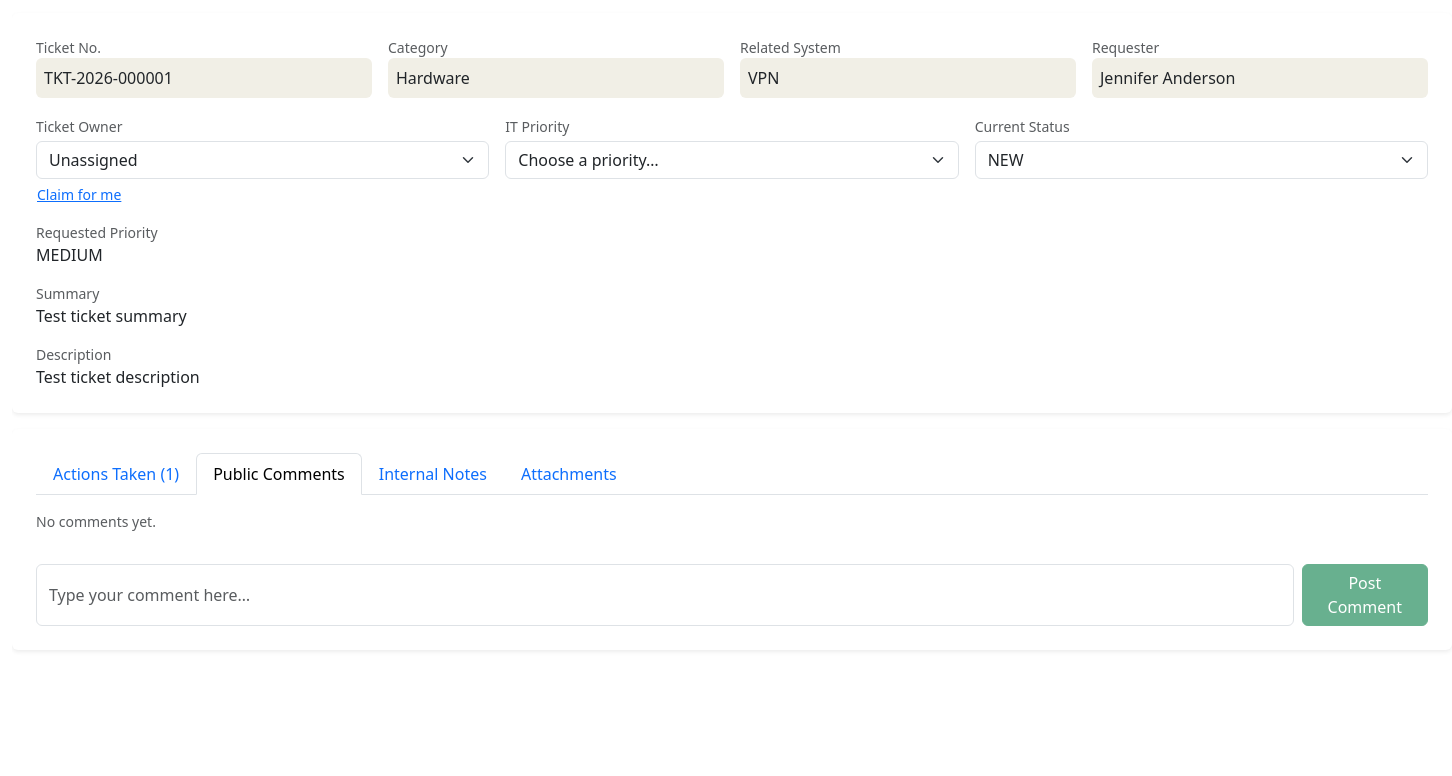
Actions Taken — IT Staff Ticket Detail › shows a conflict banner on a stale edit and loads the current record on Reload (UI-03)
The image size is (1452, 776).
Click the button "Actions Taken (1)": (116, 474) [36,453,196,495]
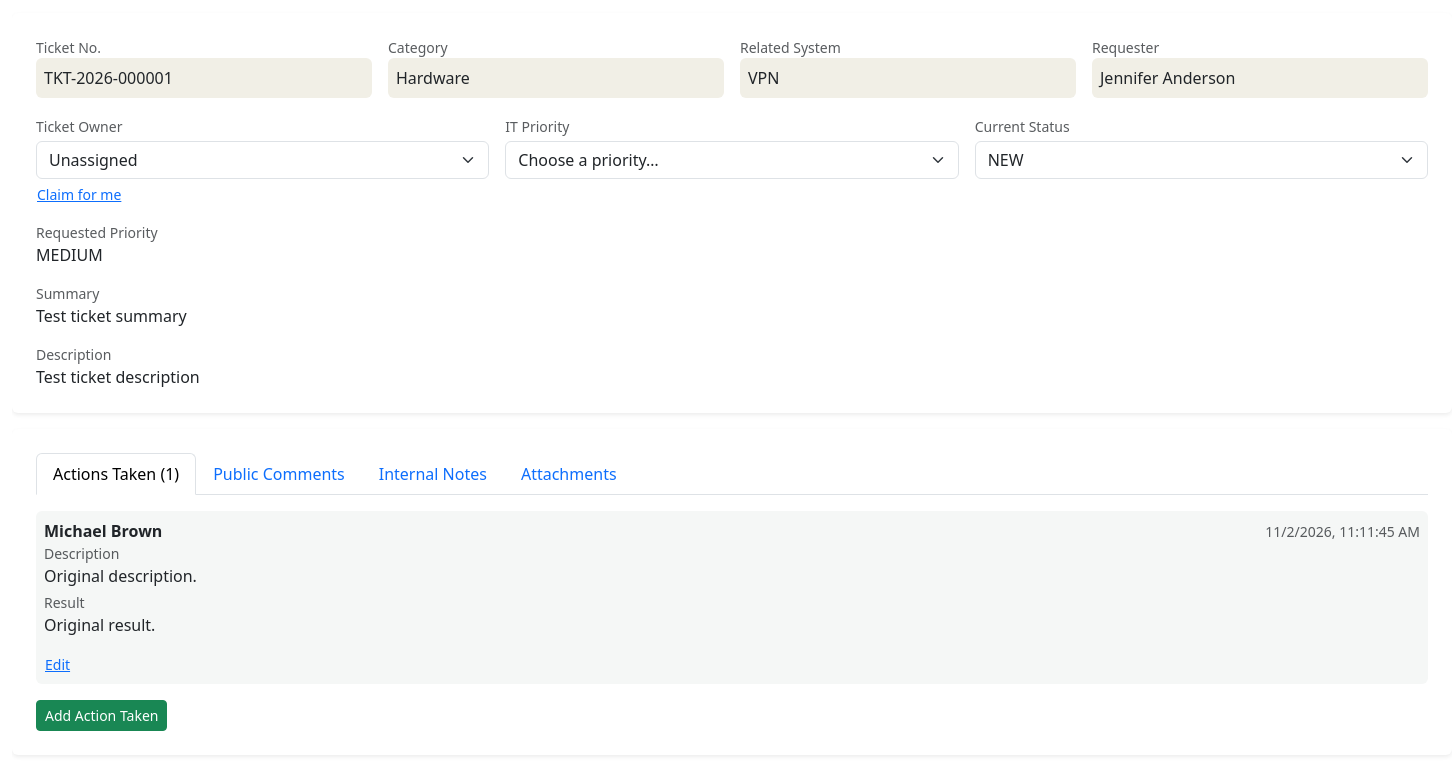
Click the button "Edit": (58, 665) [44,653,71,676]
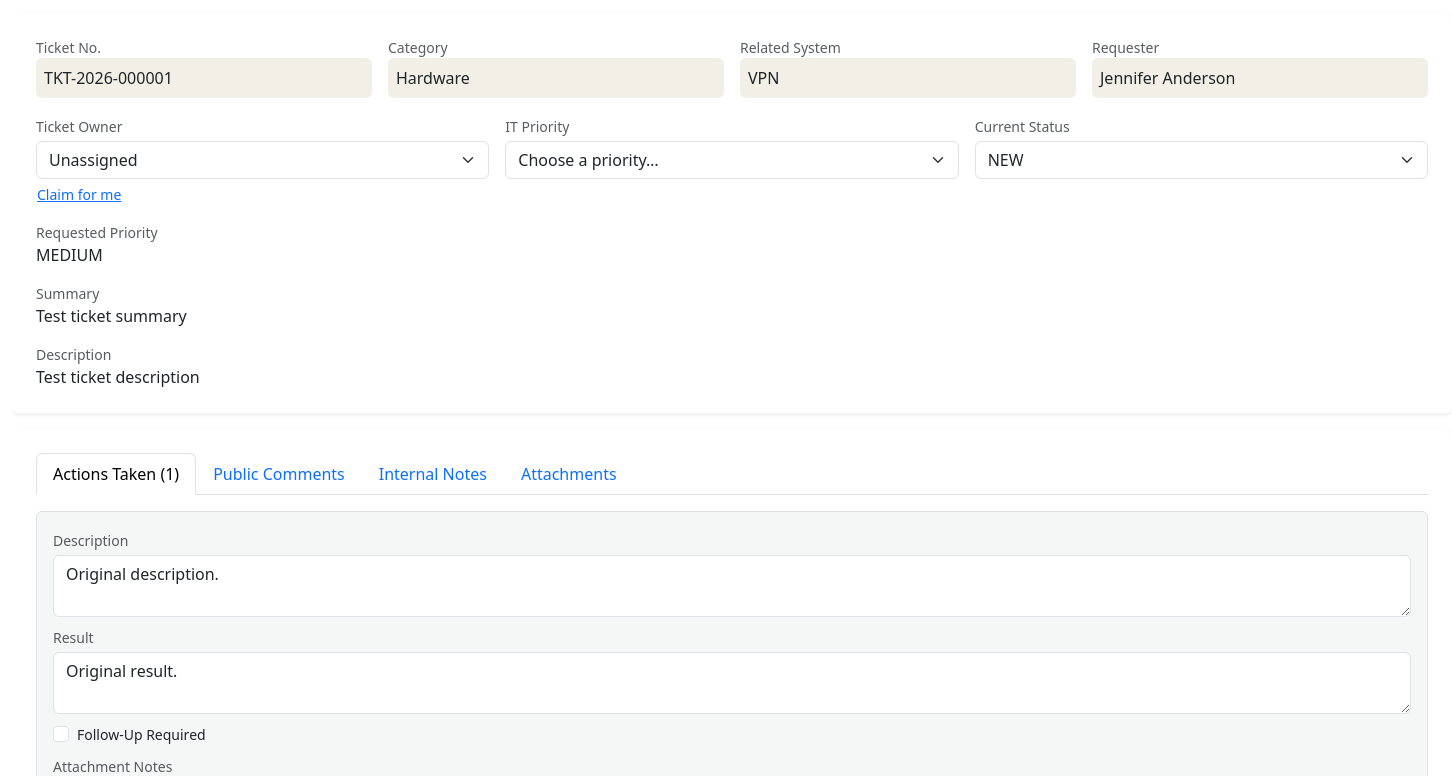
Replace the text in the text box labelled "Description" with "My local edit.": (732, 586) [53,555,1411,617]
(page scrolled)
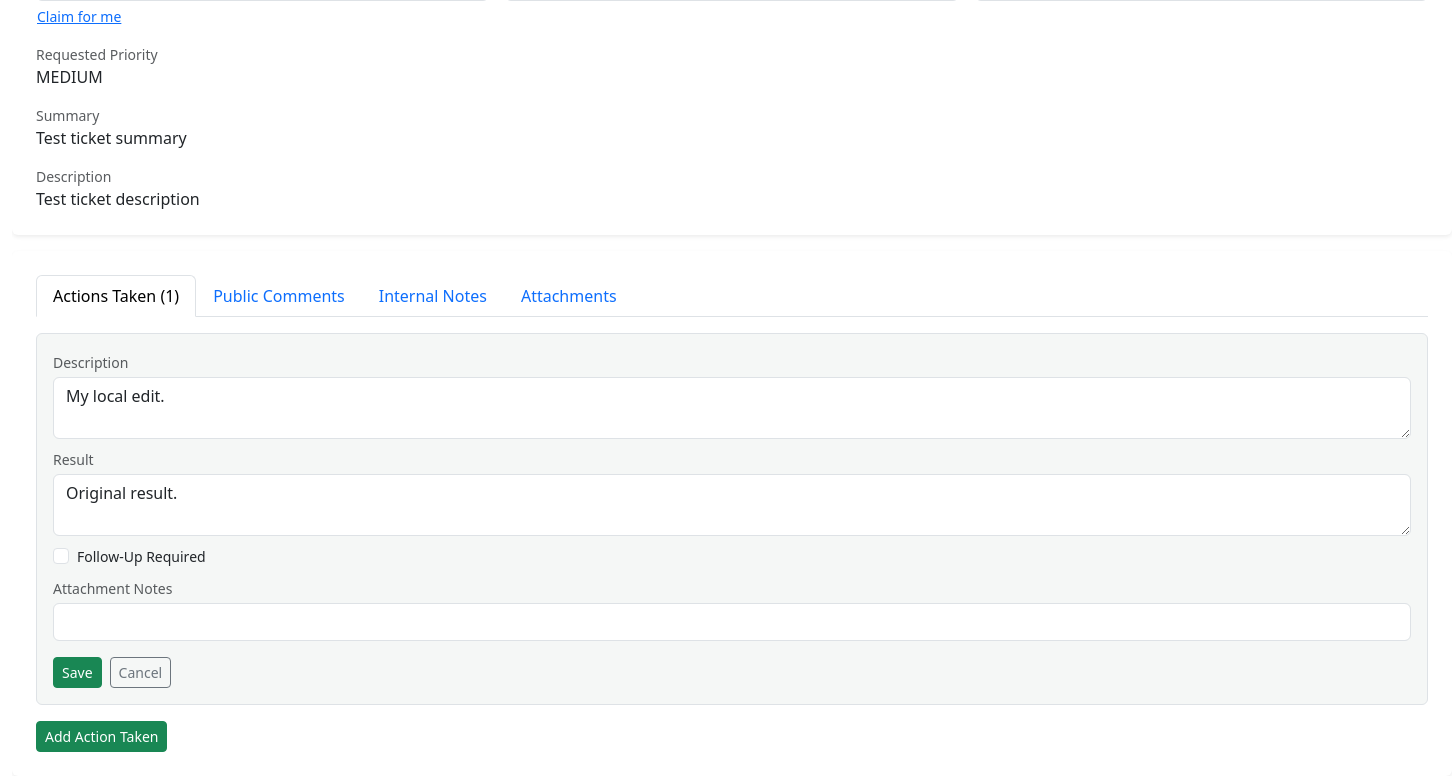
Click the button "Save": (77, 673) [53,657,102,688]
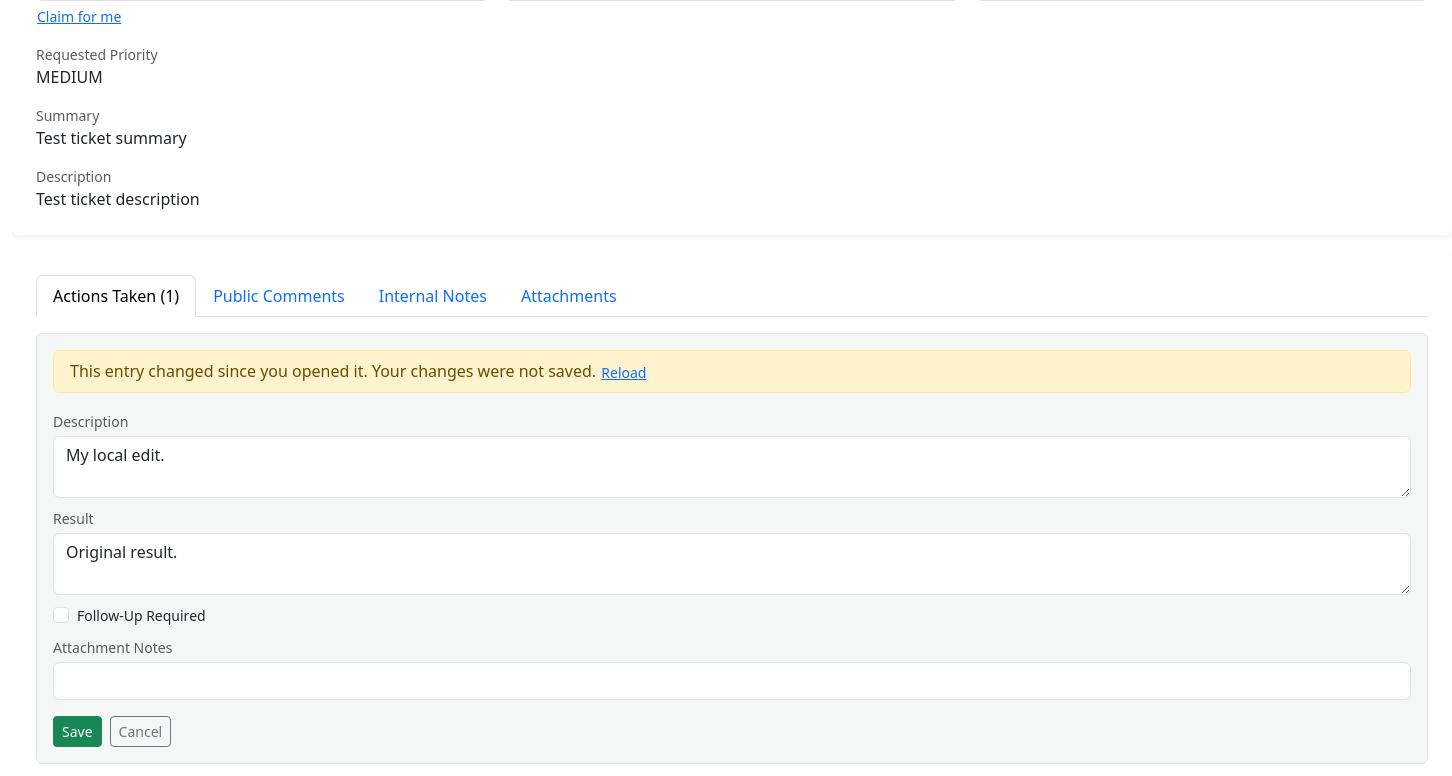
Now the text "This entry changed since you opened it. Your changes were not saved. Reload" is shown, box [53,350,1411,393]
Click the button "Reload": (624, 373) [600,361,648,384]
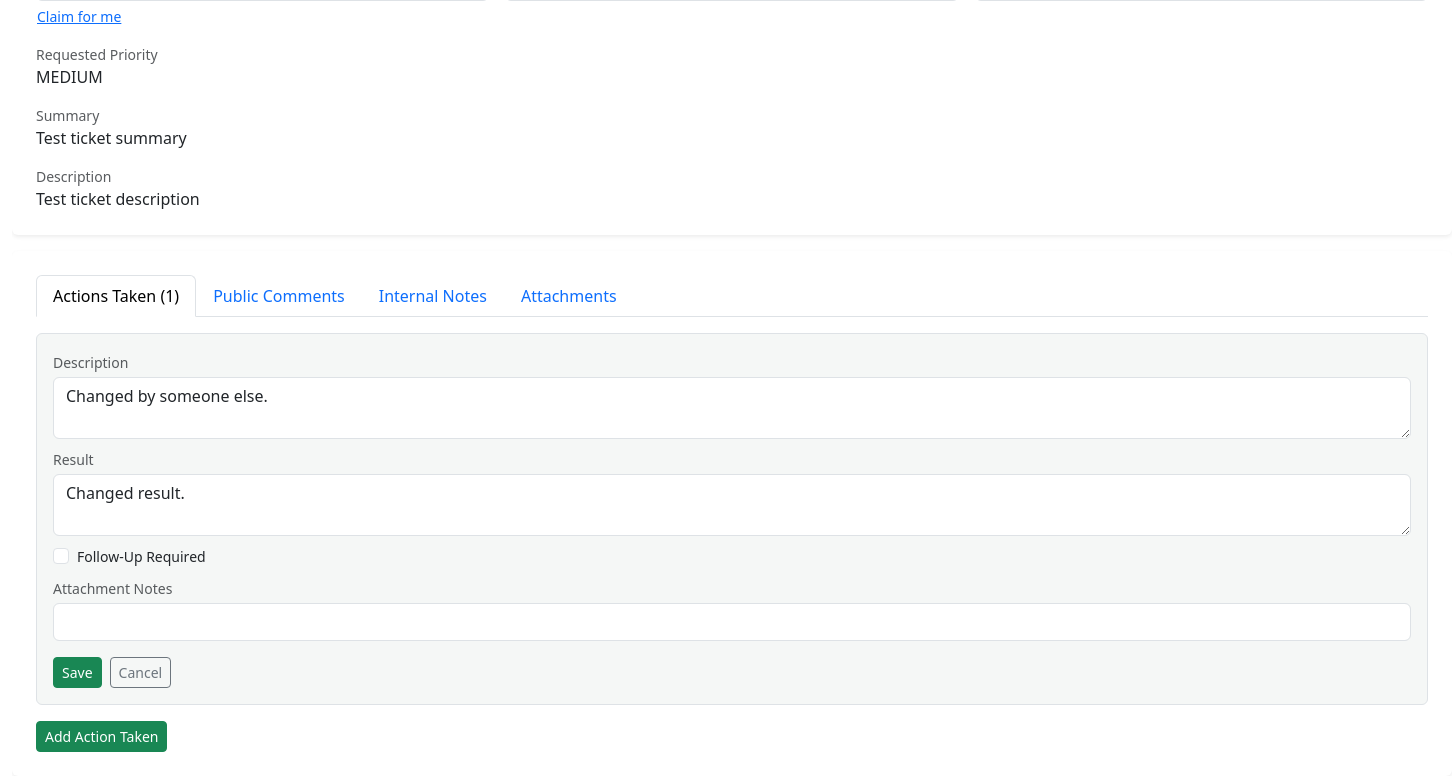
Now the text box labelled "Description" holds "Changed by someone else.", box [53,377,1411,439]
Now the text "changed since you opened it" is gone
